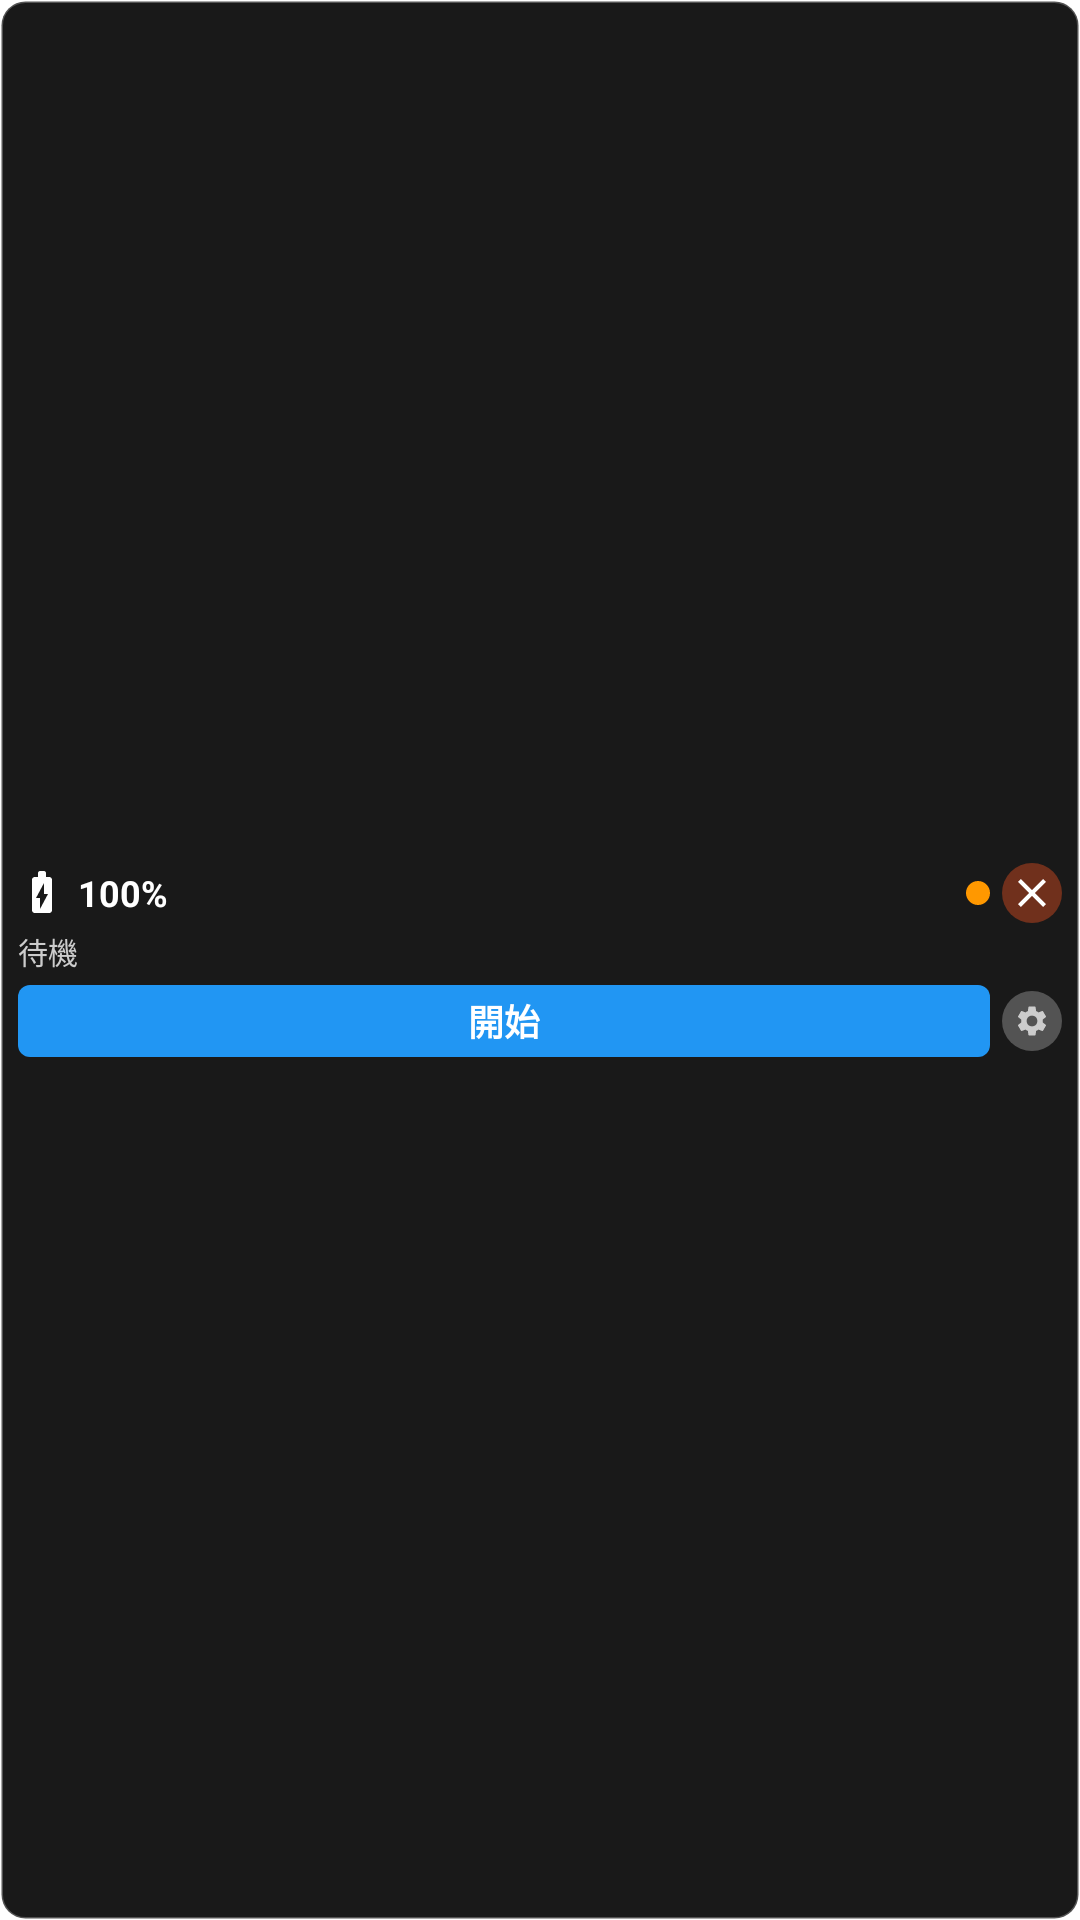

Named icons in this screenshot (1080x1920) and their bounding boxes, (x1, y1, x2, y2):
battery: (32, 871, 52, 913)
close: (1002, 863, 1062, 923)
settings: (1002, 991, 1062, 1051)
